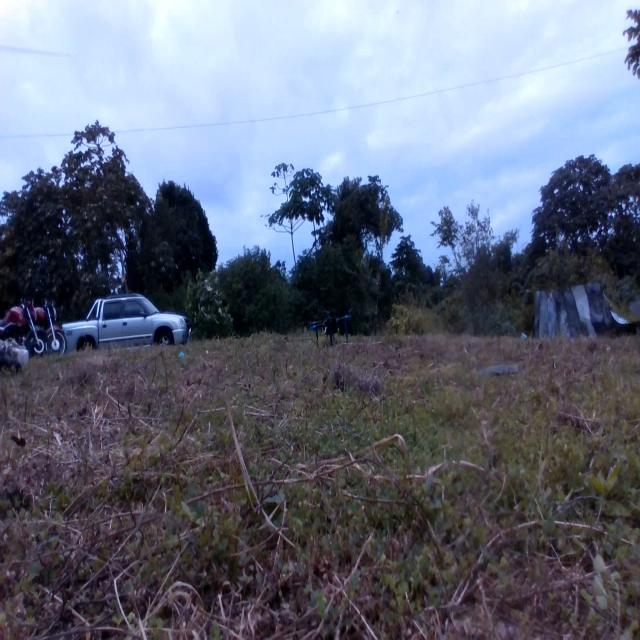-uav-: (304, 295, 364, 363)
